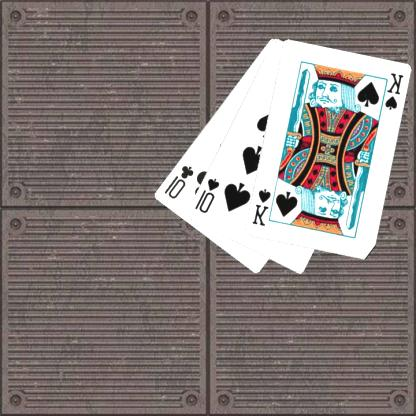10C: (163, 162, 196, 200)
10S: (194, 176, 223, 215)
KS: (379, 70, 406, 113), (251, 186, 273, 228)
